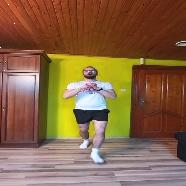lunges: (58, 63, 125, 164)
